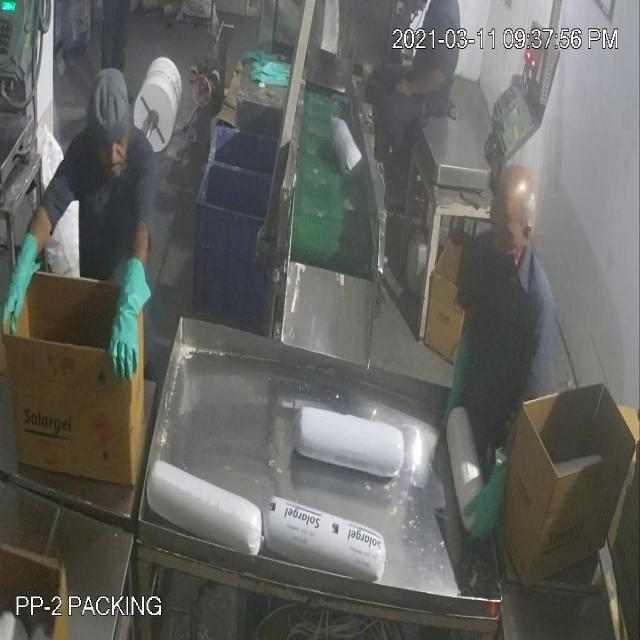No_Gloves: (23, 46, 486, 504)
